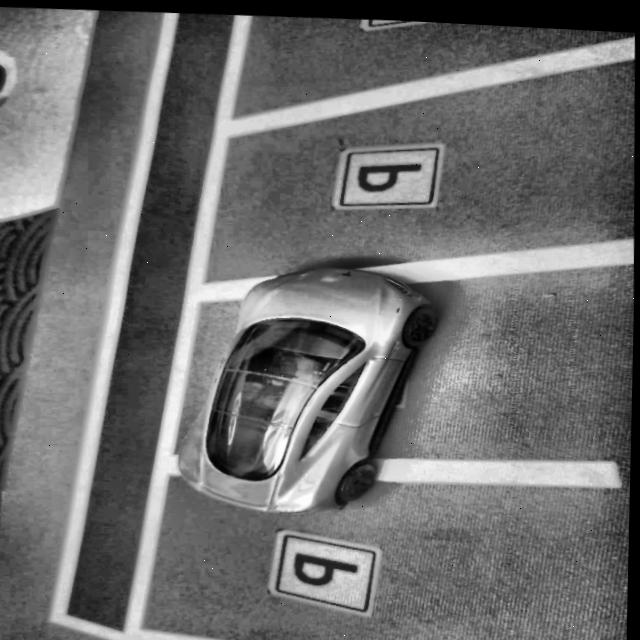car: (172, 253, 445, 517)
